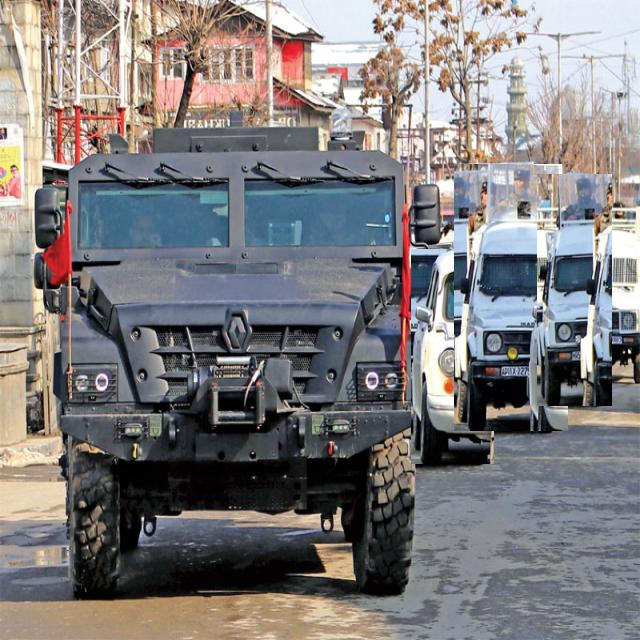car: (454, 165, 568, 431), (411, 249, 494, 464), (537, 174, 611, 406)
truck: (35, 115, 441, 596)
